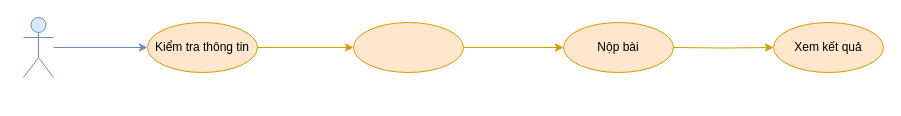
Image size: 901x116. Some labels were removed from this diagram. Here are the shapes that lost their labels. From the top down, the centre of each, then its label:
the point at 38,47: Thí sinh
the point at 408,47: Làm bài
